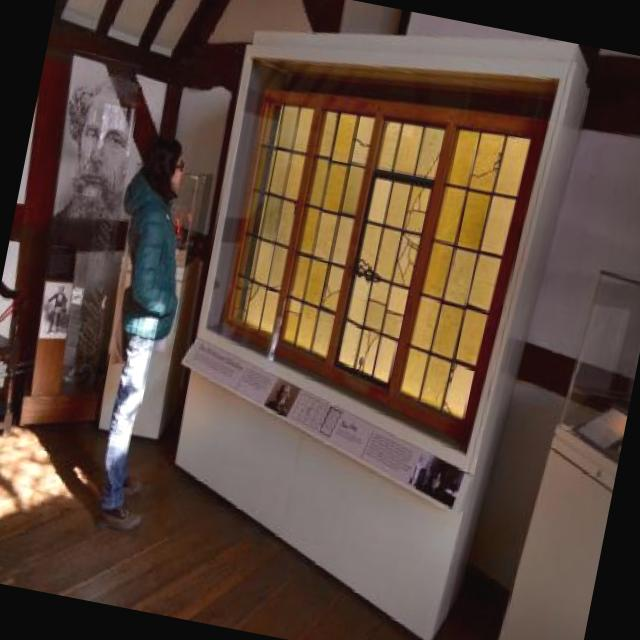Person: (60, 105, 213, 527), (46, 67, 150, 225), (38, 278, 72, 334)
